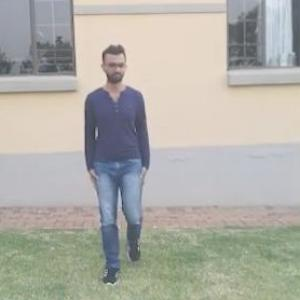follow: (74, 27, 154, 286)
